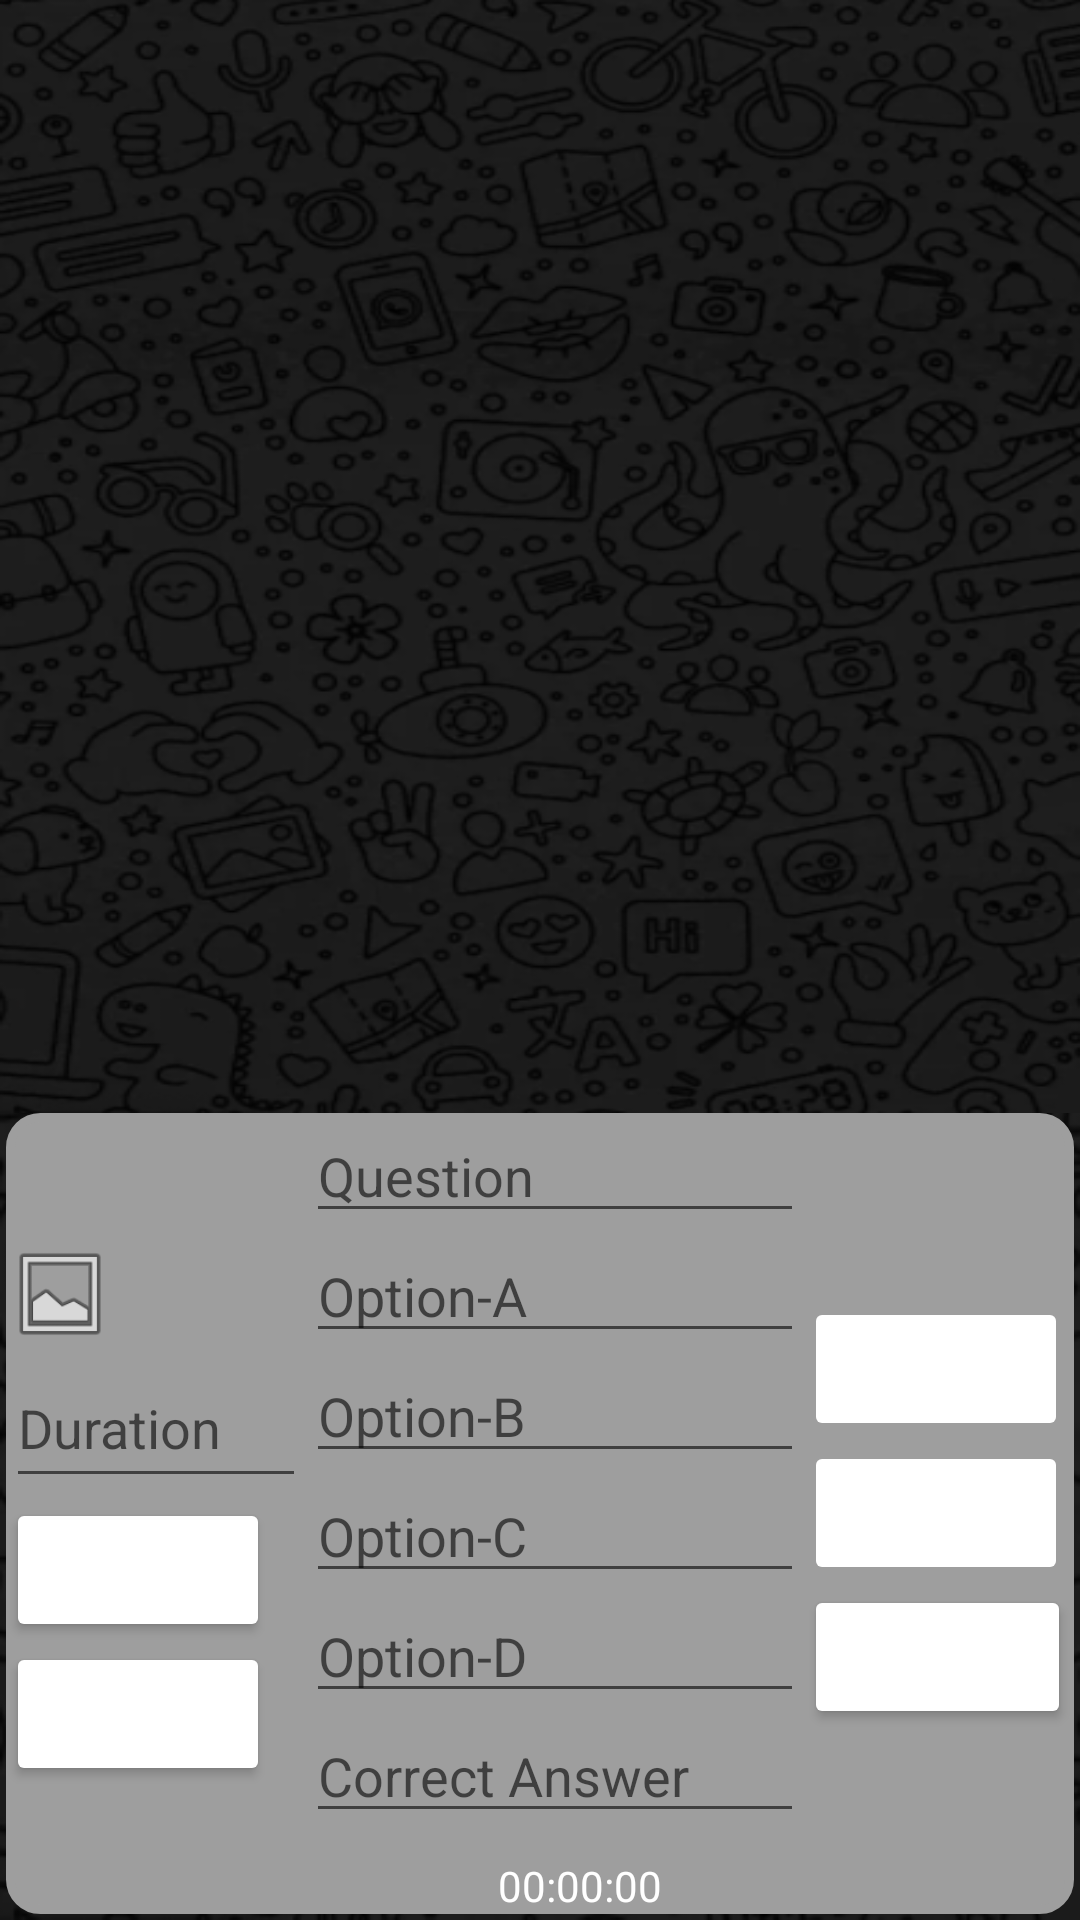

Icons on this 1080x1920 Android screen, each with the point to tap as (x,y):
gallery: (60,1294)
